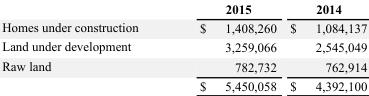table: (1, 1, 366, 92)
table column: (1, 1, 168, 92), (168, 1, 282, 92), (282, 1, 366, 92)
table column header: (1, 1, 366, 17)
table row: (1, 36, 366, 56), (1, 56, 366, 76), (1, 17, 366, 36), (1, 1, 366, 17), (1, 76, 366, 92)
